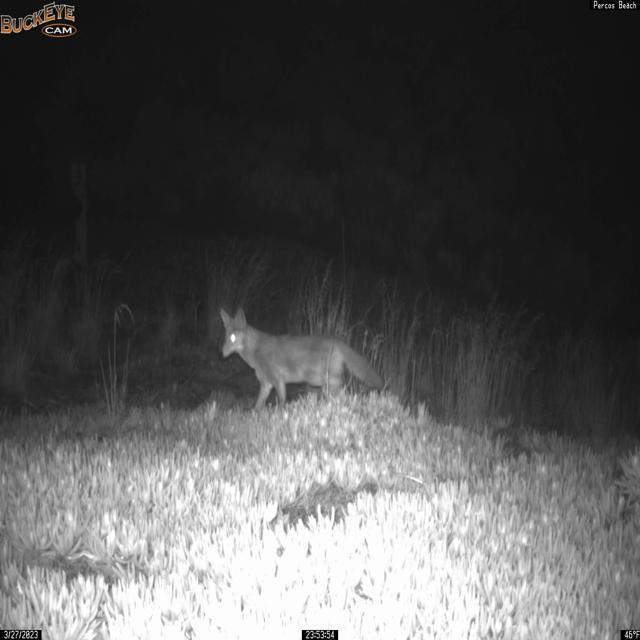coyote: (218, 306, 386, 412)
